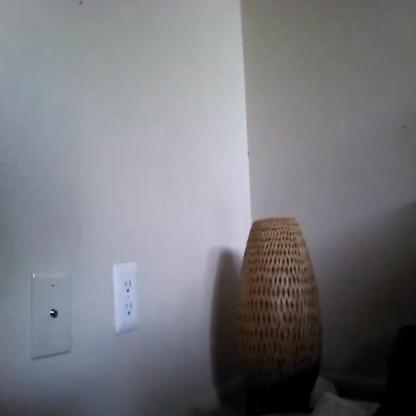OUTLET: (112, 261, 140, 335)
